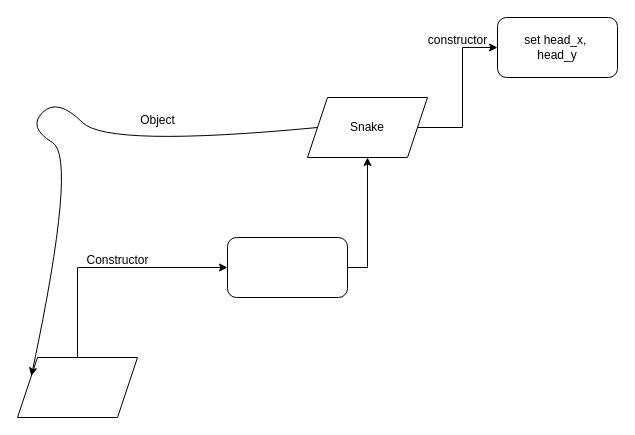
Image size: 635x435. Some labels were removed from this diagram. The shapes that lost their labels are listed below. From the top down, each one's centre as x and y in pixels, then its label:
At point (287, 267): "Initialise Snake Initialise random Call PlaceFood()".
At point (77, 387): "Game".
